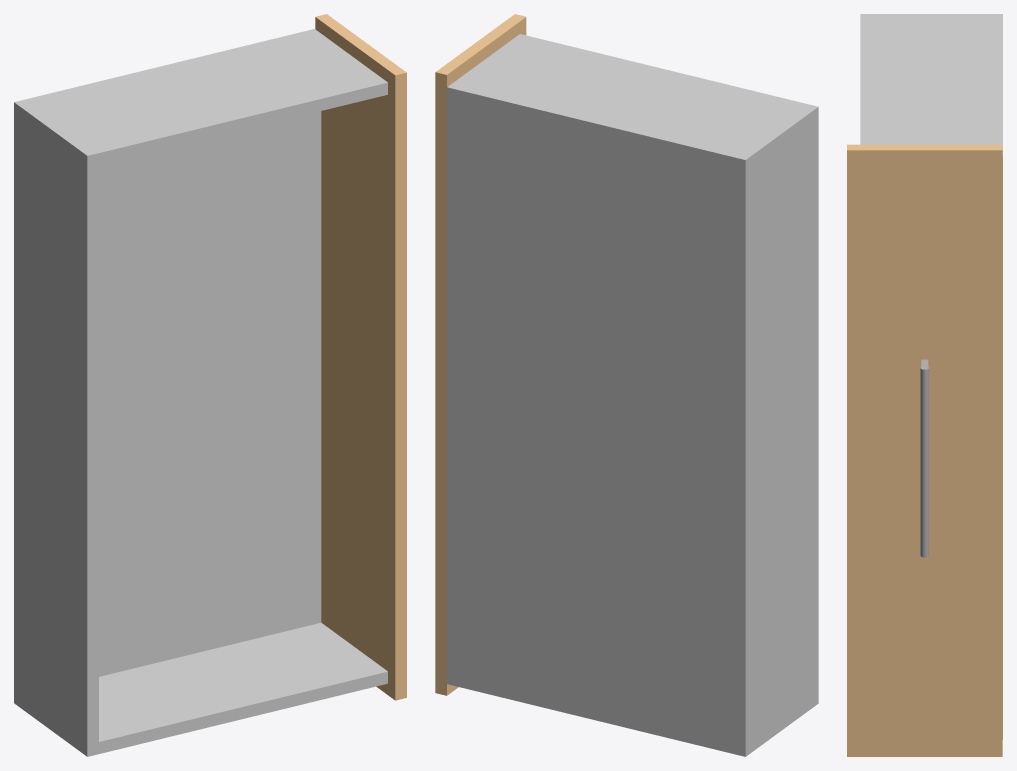
Rendered from ROOM73B2-HRP2-PARTS-DRAWER-BODYSET4_link_mesh.dae.
The picture shows the model from 3 angles, left to right: view 1: azimuth 30°, elevation 25°; view 2: azimuth 150°, elevation 25°; view 3: azimuth 270°, elevation 25°; orthographic projection. The views are drawn at different scales.
Parts seen in each view (by area): view 1: ROOM73B2-HRP2-PARTS-DRAWER-BODYSET4_link (×2); view 2: ROOM73B2-HRP2-PARTS-DRAWER-BODYSET4_link (×2); view 3: ROOM73B2-HRP2-PARTS-DRAWER-BODYSET4_link (×3).
Part boxes in pixels (<box>): ROOM73B2-HRP2-PARTS-DRAWER-BODYSET4_link (×2): <box>14,14,406,756</box>; ROOM73B2-HRP2-PARTS-DRAWER-BODYSET4_link (×2): <box>435,14,818,756</box>; ROOM73B2-HRP2-PARTS-DRAWER-BODYSET4_link (×3): <box>847,14,1002,756</box>.
Size of the model in its own units: 0.433 by 0.775 by 0.1805.
